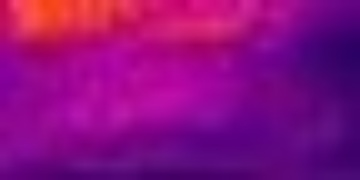Shadow: (130, 1, 360, 118), (1, 118, 360, 180), (1, 52, 130, 118)
